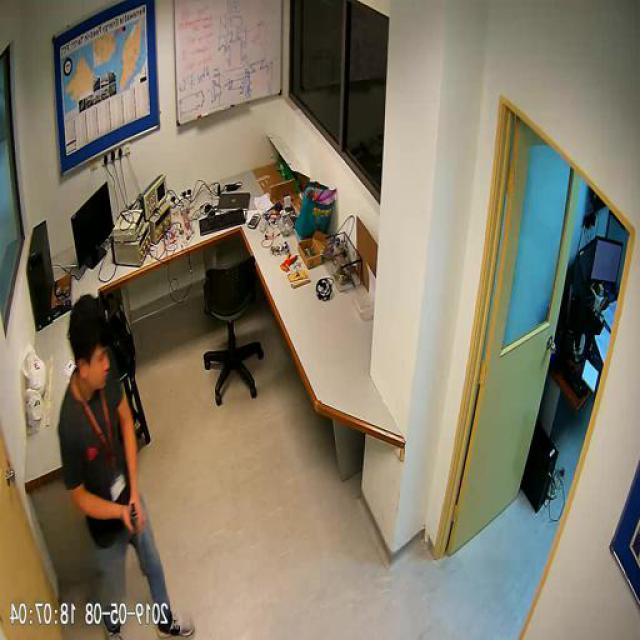Gun: (129, 498, 149, 574)
